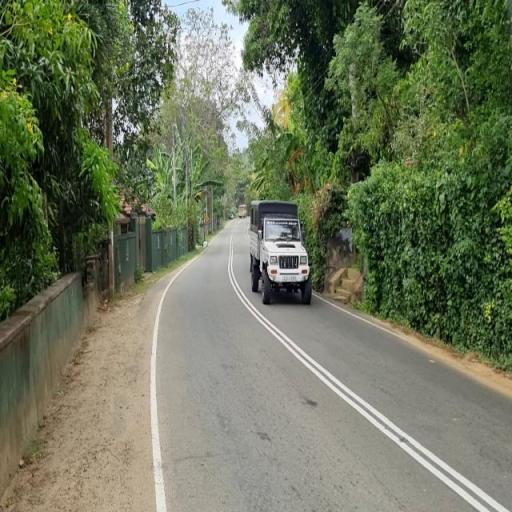double_white_line: (231, 233, 510, 512)
